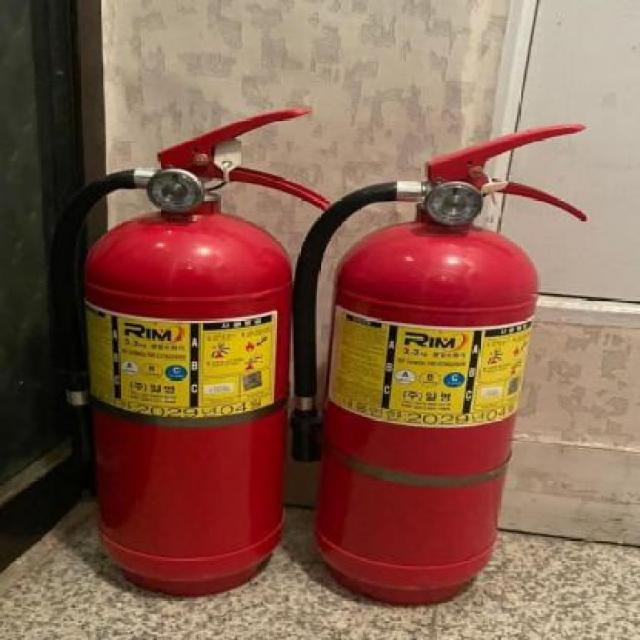fire extinguisher: (288, 123, 589, 608), (53, 103, 332, 594)
